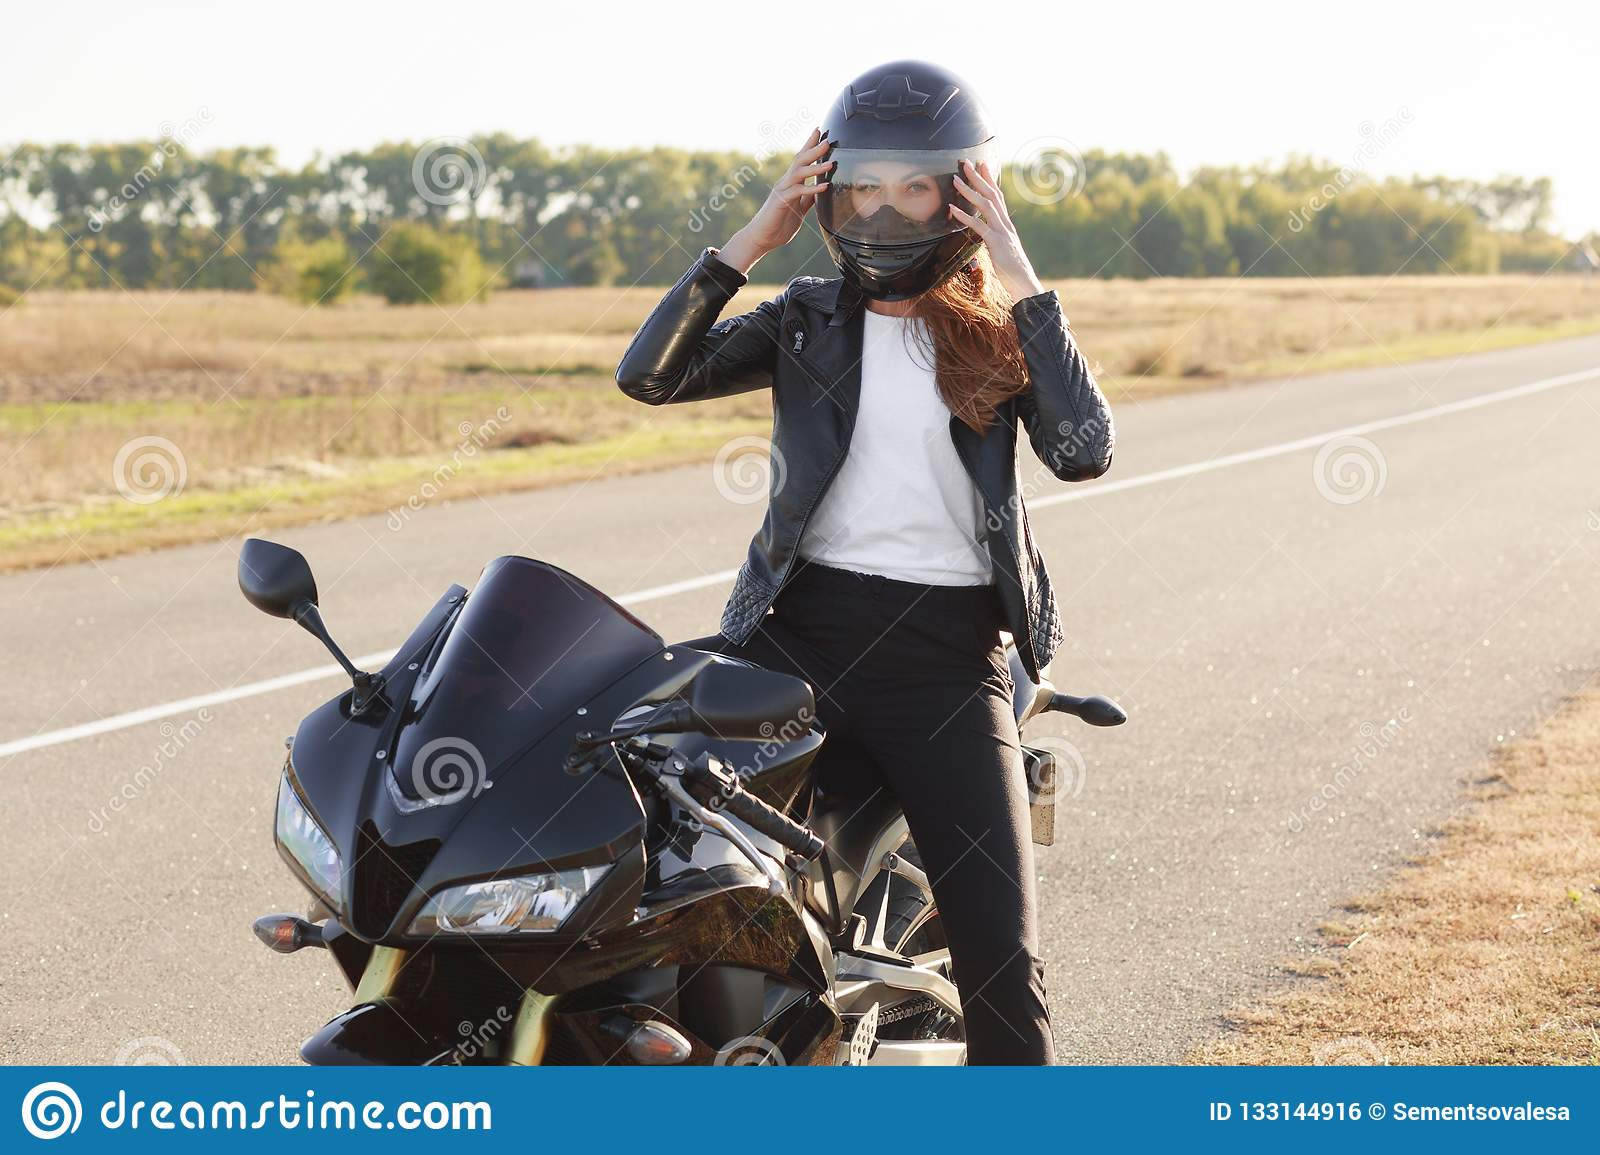helmet: (802, 61, 1000, 301)
